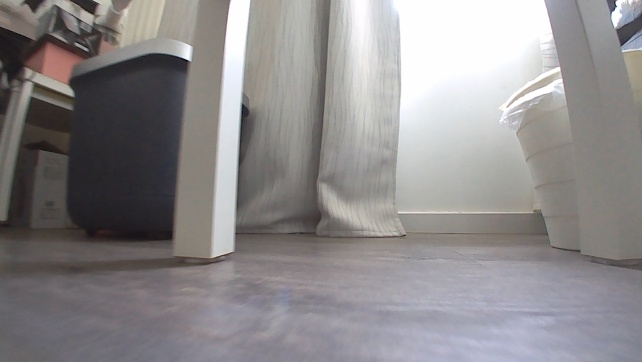wire: (3, 69, 35, 90)
